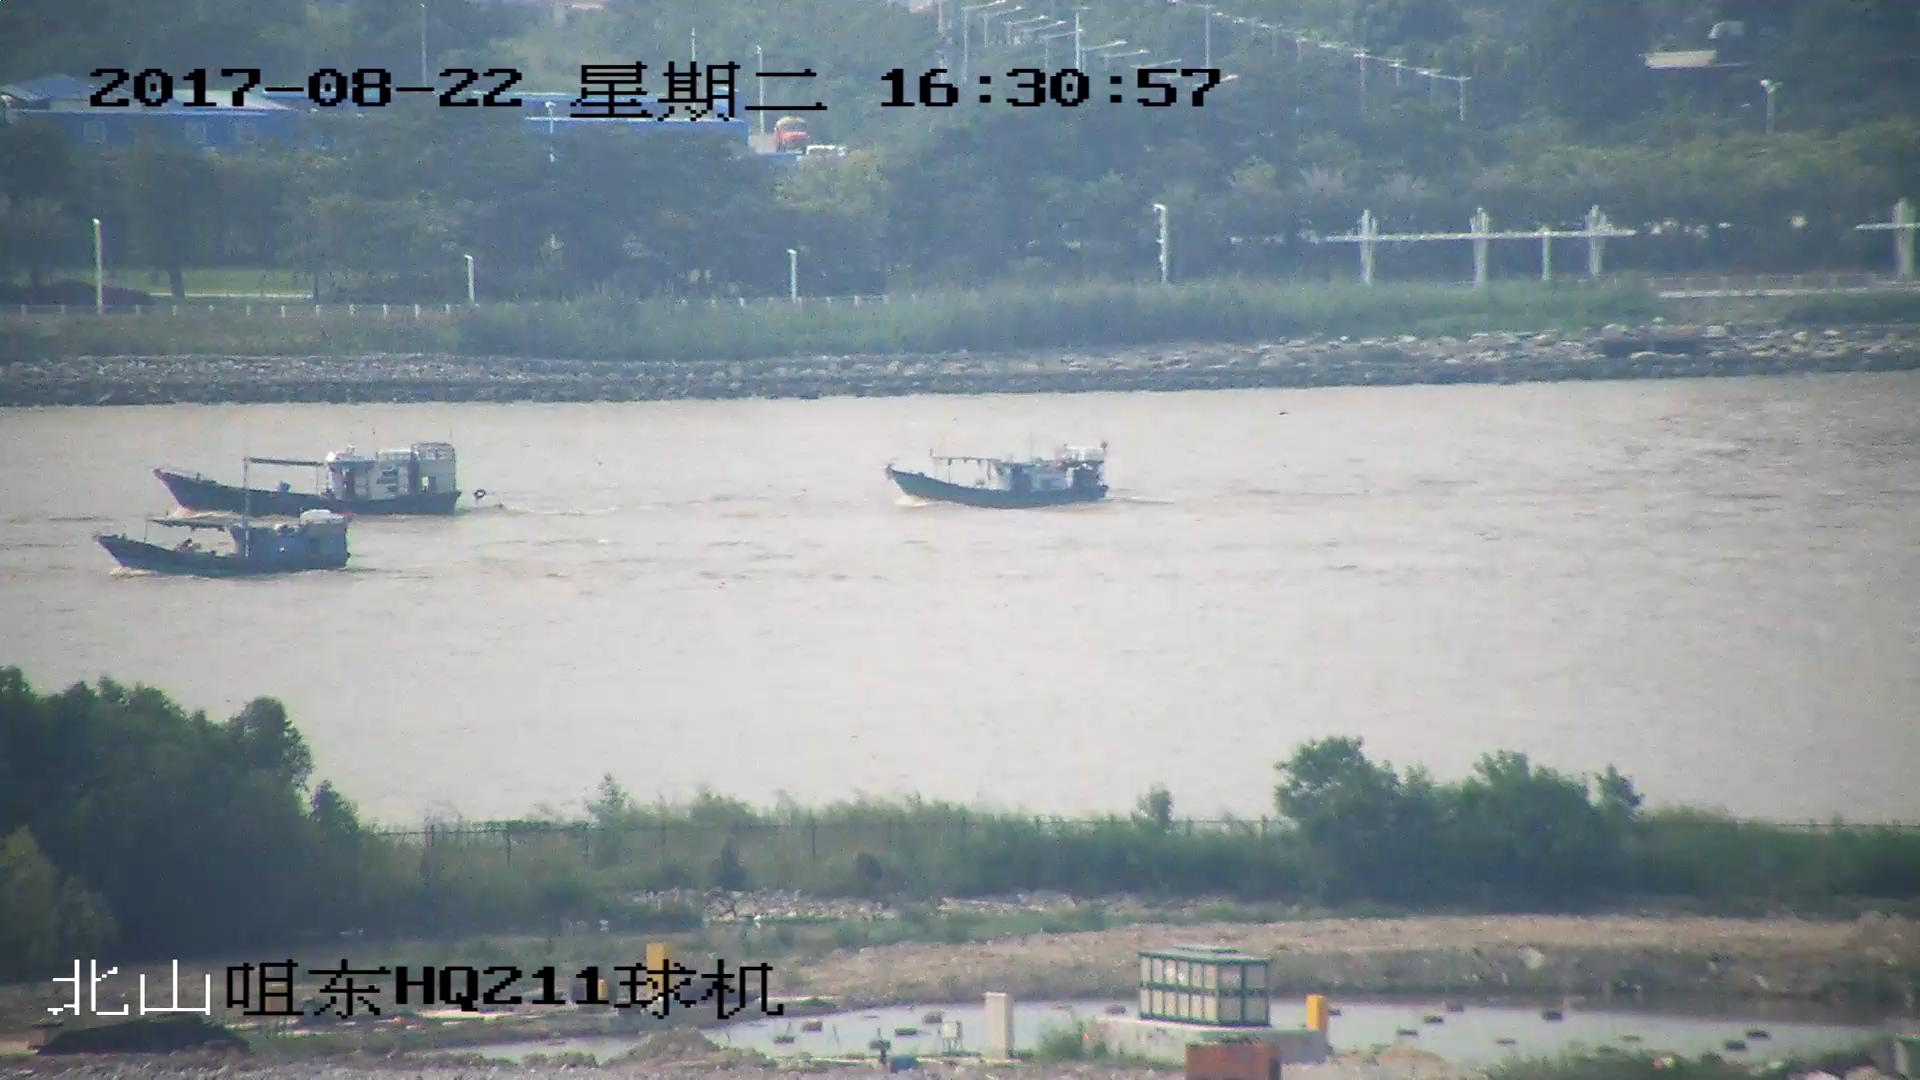fishing boat: (151, 448, 467, 514), (99, 508, 357, 574), (889, 441, 1112, 505)
